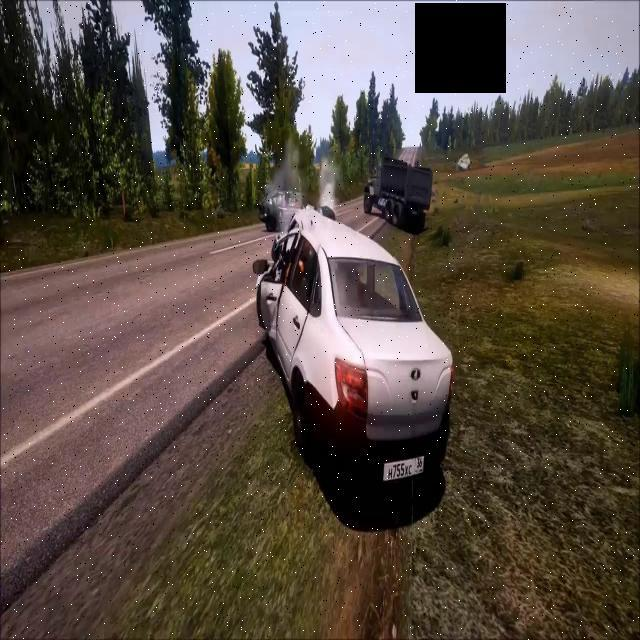severe: (250, 182, 463, 528)
